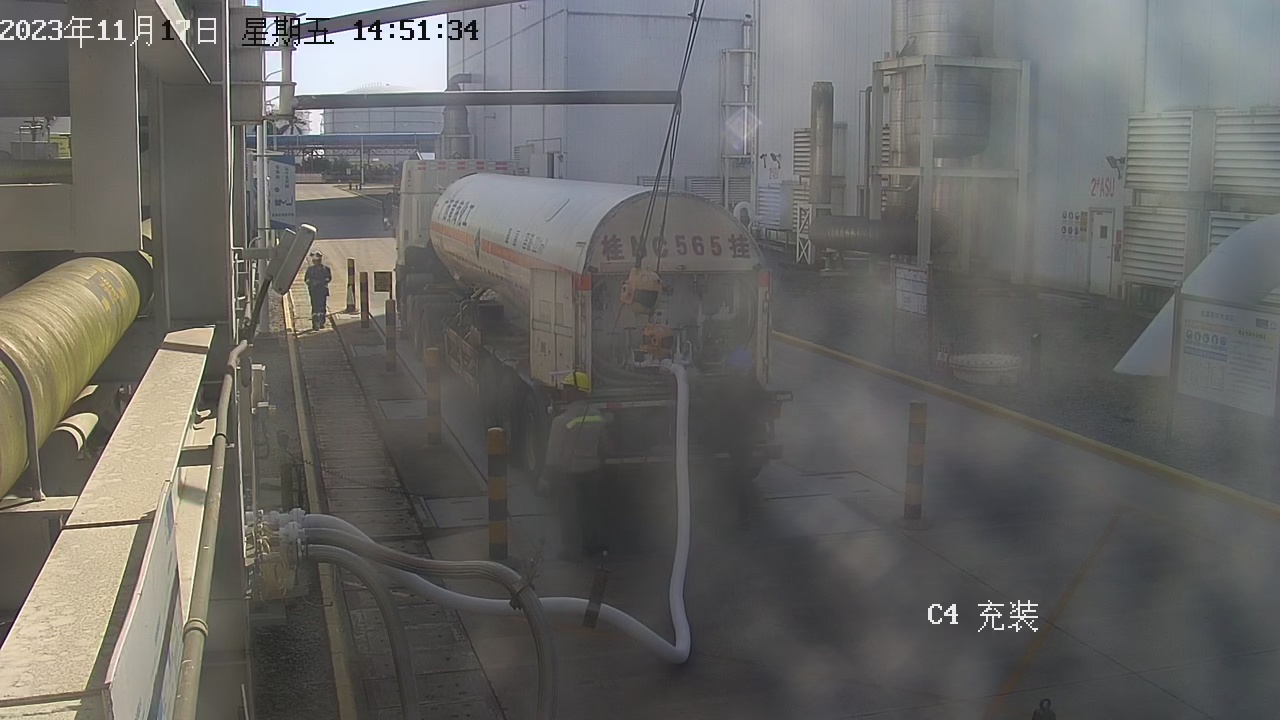Head_with_Helmet: (547, 365, 606, 408), (715, 341, 768, 382), (303, 247, 327, 267)
Uniform: (532, 397, 623, 570), (700, 372, 791, 534), (297, 262, 341, 332)
